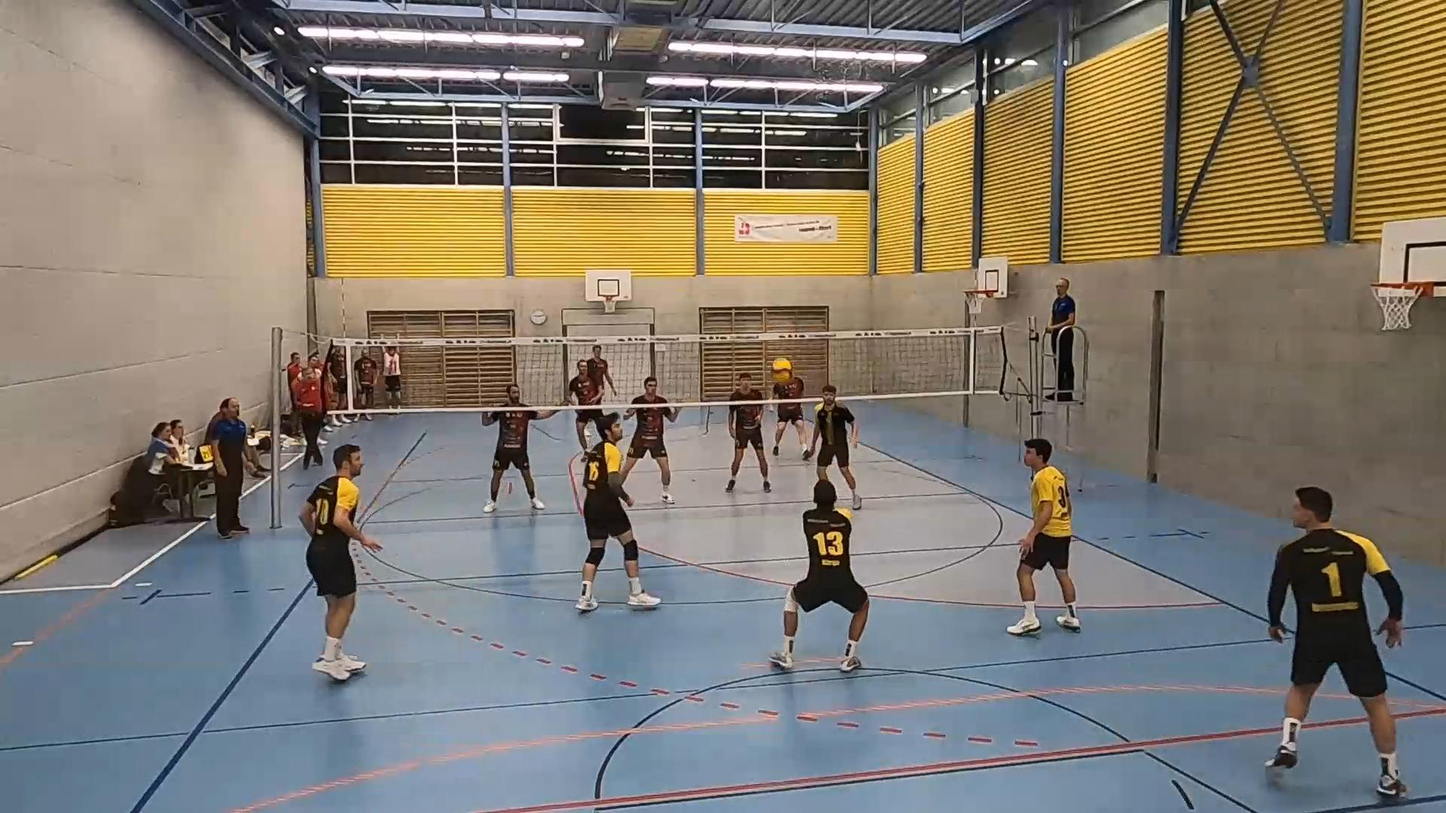ricezione: (782, 484, 874, 672)
